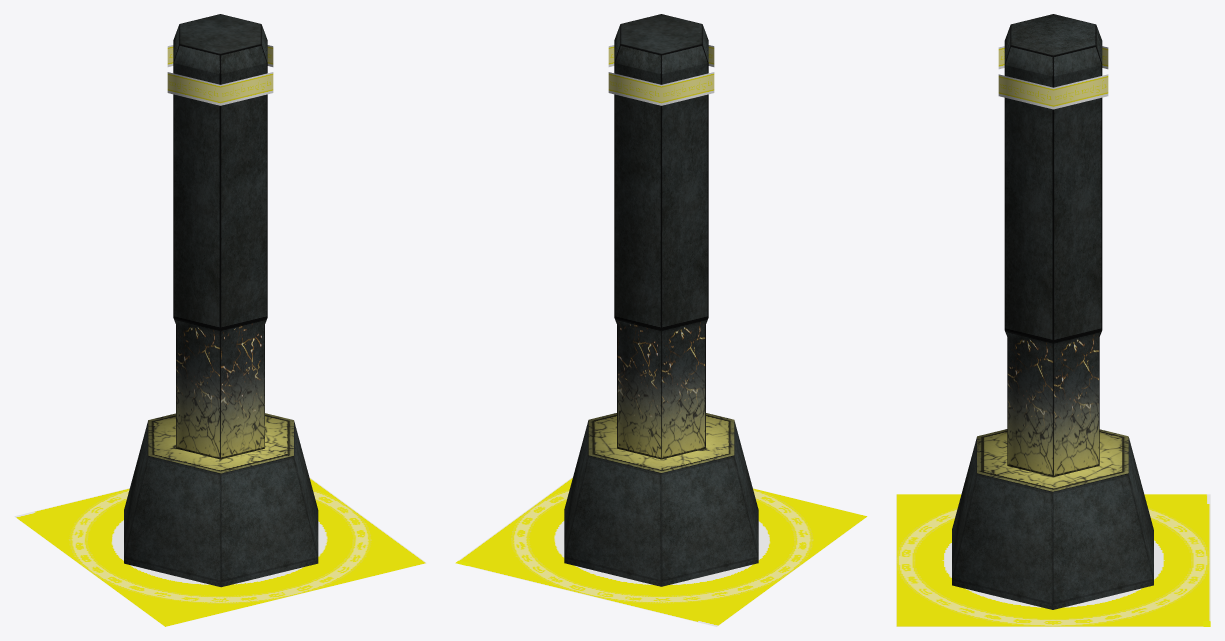
The model's file is Incantaion Tower.fbx.
The picture shows the model from 3 angles, left to right: view 1: azimuth 30°, elevation 25°; view 2: azimuth 150°, elevation 25°; view 3: azimuth 270°, elevation 25°; orthographic projection. The views are drawn at different scales.
Visible parts, largest first — view 1: pPlane3; view 2: pPlane3; view 3: pPlane3.
Part boxes in pixels (x1,y1,x2,y2): pPlane3: (14,14,426,626); pPlane3: (455,14,867,626); pPlane3: (896,14,1210,626).
Size of the model in its own units: 99 by 185 by 99.
Materials: 2 (2 with a texture image).
